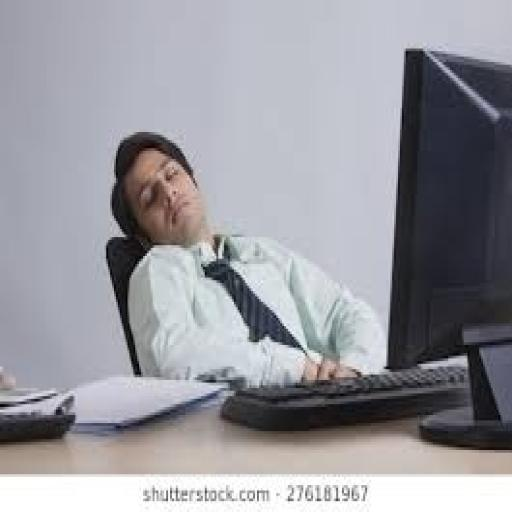sleeping: (106, 127, 386, 388)
